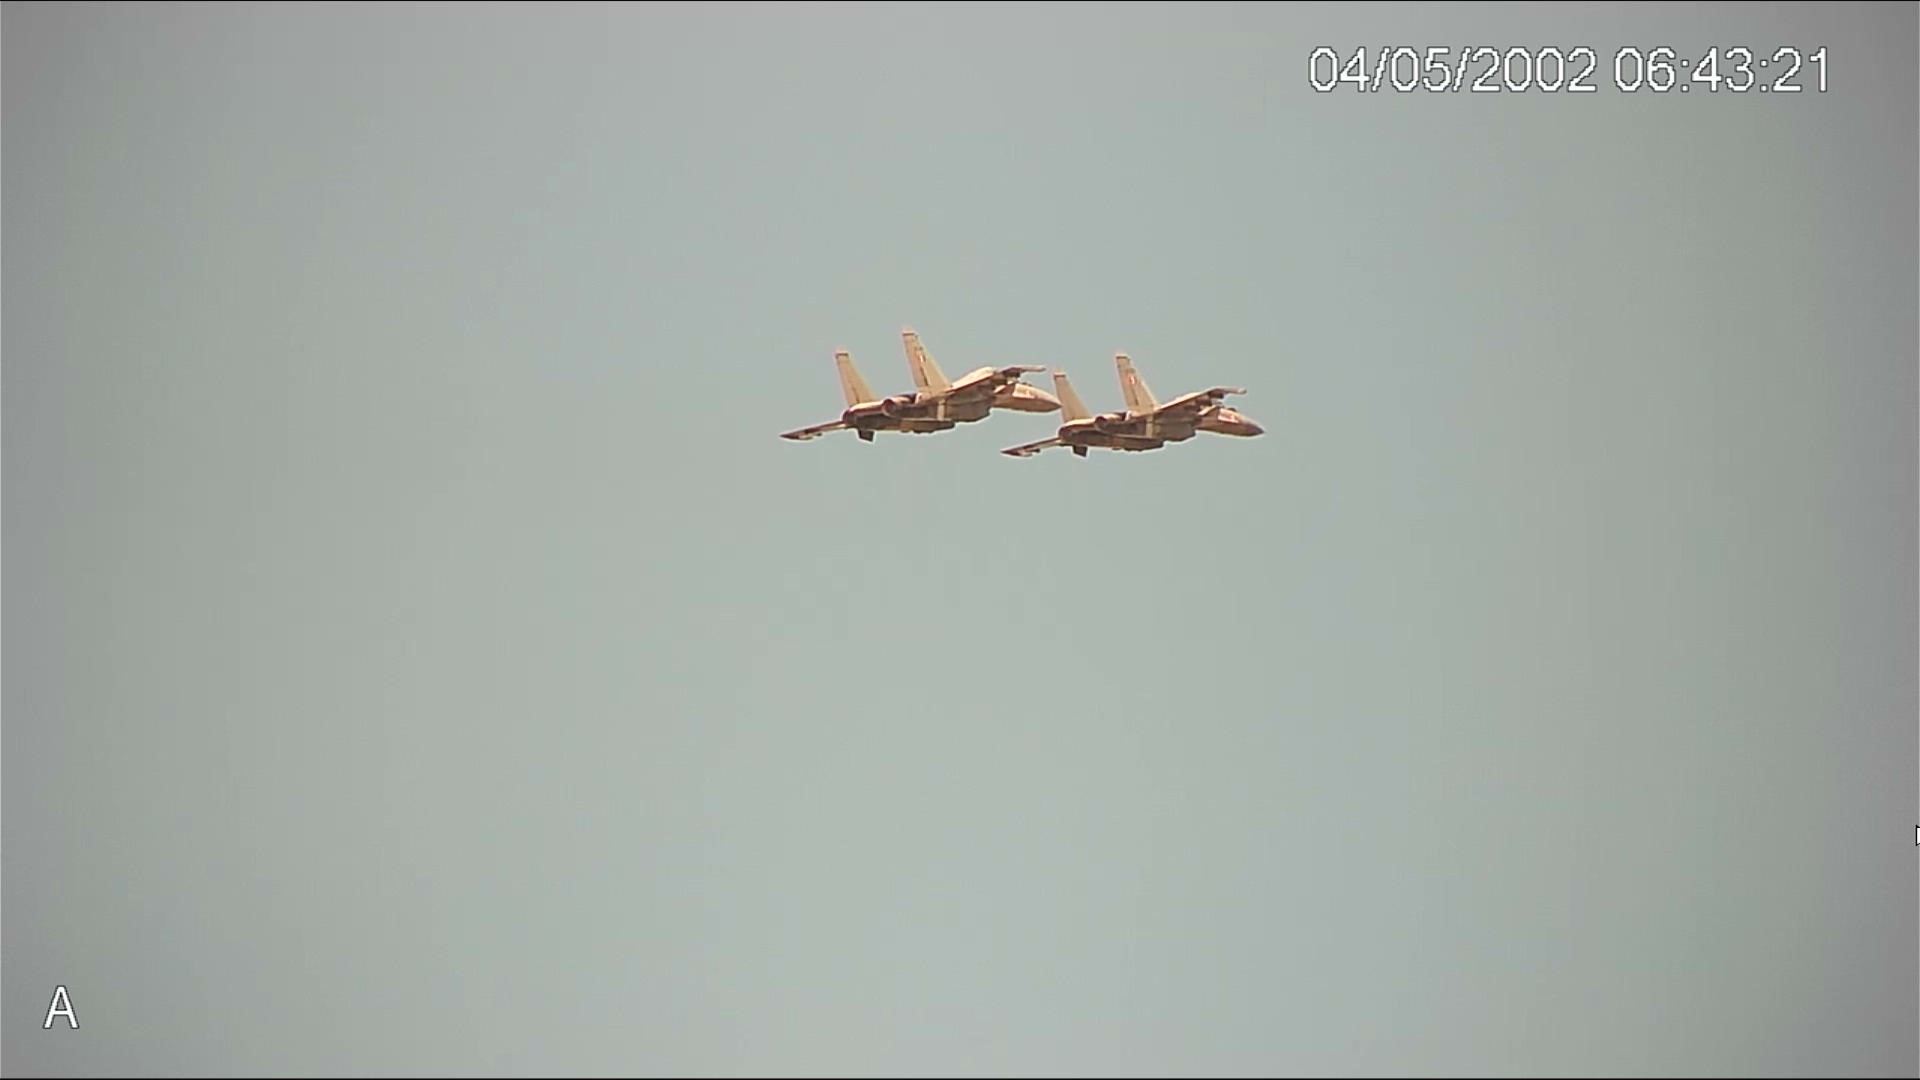SU_30: (782, 330, 1060, 436), (1006, 359, 1271, 462)
